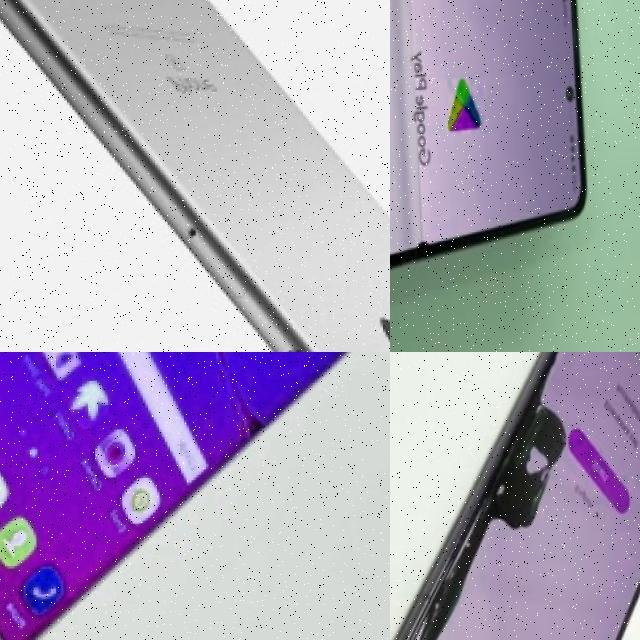dead pixel: (390, 381, 589, 640), (400, 218, 440, 280)
